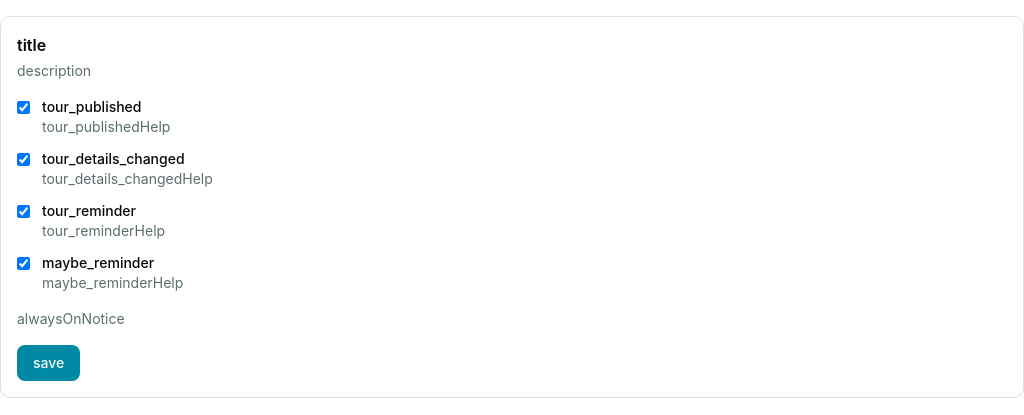
NotificationPreferences › sends the whole set with the toggled event flipped off
The image size is (1024, 415).
What coordinates should you click on to do the following:
click the checkbox labelled "tour_published tour_publishedHelp"
I would click on:
 (24, 108)
Its box is [17,101,30,114].
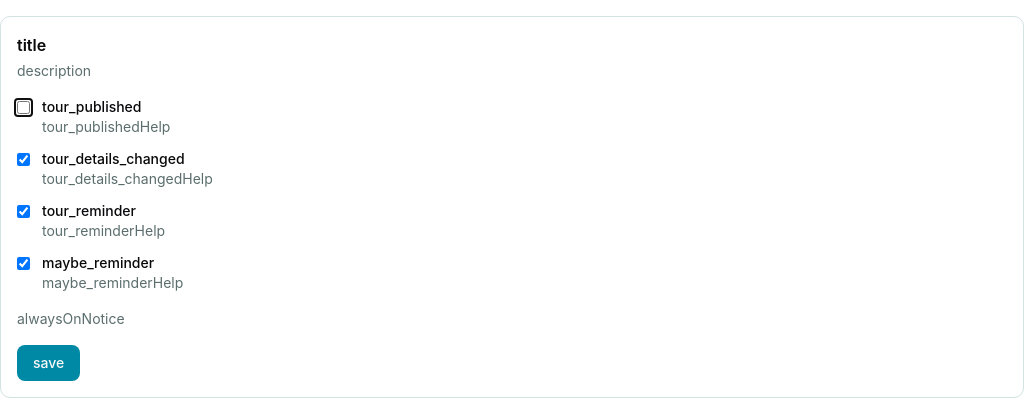
What coordinates should you click on to do the following:
click the button "save"
I would click on:
 (49, 363)
Its box is [17,345,80,381].
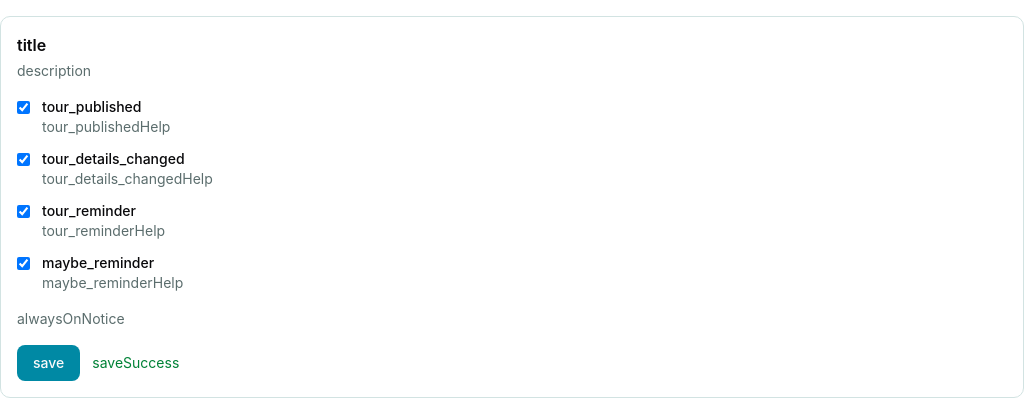
expect the text "saveSuccess" is shown: met, box [92,353,179,373]
